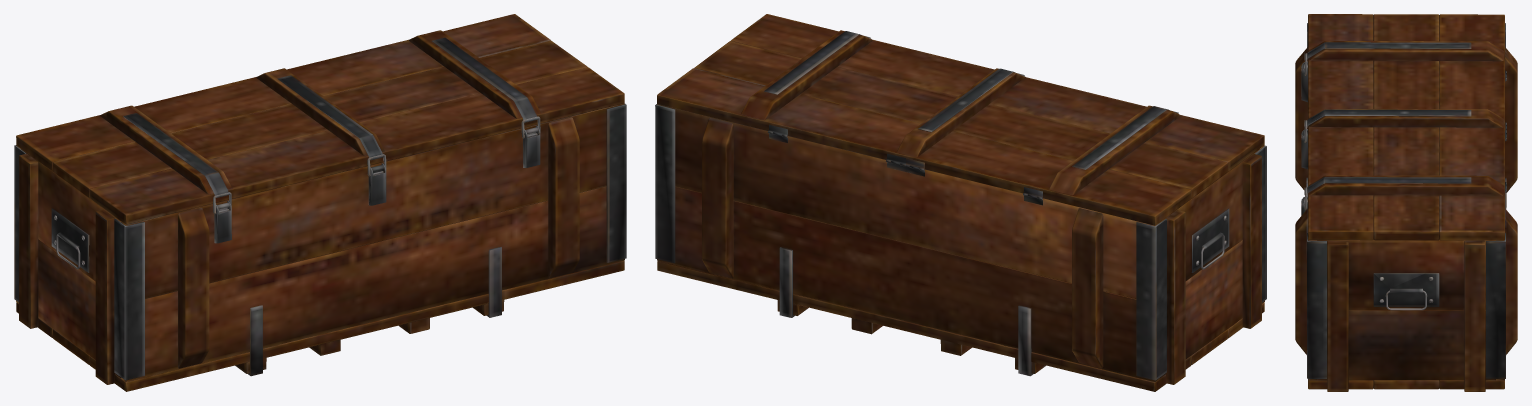
File: wooden_military_crate.500ad99ecf.glb
3 views of the same model, side by side, from view 1: azimuth 30°, elevation 25°; view 2: azimuth 150°, elevation 25°; view 3: azimuth 270°, elevation 25° (orthographic). The views are drawn at different scales.
Parts seen in each view (by area): view 1: wooden_military_crate, wooden_military_crate_lid; view 2: wooden_military_crate, wooden_military_crate_lid; view 3: wooden_military_crate_lid, wooden_military_crate.
Part boxes in pixels (x1=…): wooden_military_crate: x1=14, y1=103, x2=626, y2=391; wooden_military_crate_lid: x1=16, y1=14, x2=624, y2=224; wooden_military_crate: x1=655, y1=104, x2=1266, y2=391; wooden_military_crate_lid: x1=657, y1=14, x2=1264, y2=225; wooden_military_crate_lid: x1=1304, y1=14, x2=1506, y2=240; wooden_military_crate: x1=1295, y1=23, x2=1517, y2=391.
Bounding box in the file's own units: 1.24 × 0.4646 × 0.5198.
1 material, 1 textured.
